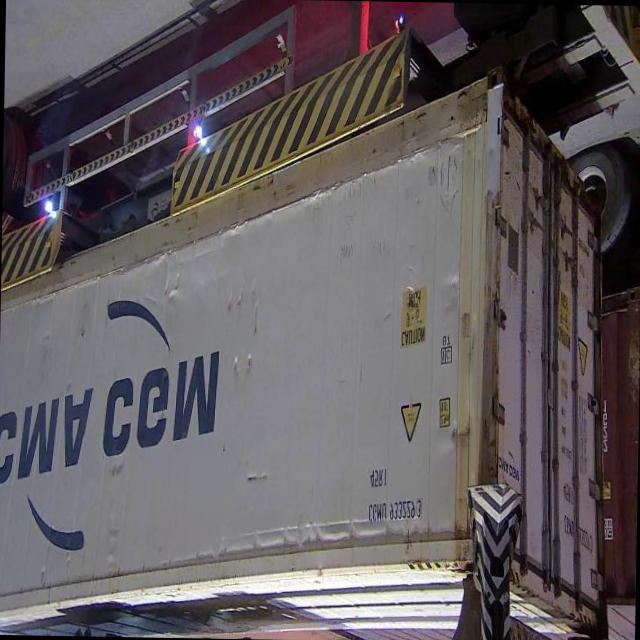Deframe_or_Dent: (399, 277, 424, 342), (227, 342, 256, 387)
Hole: (237, 457, 271, 497)
